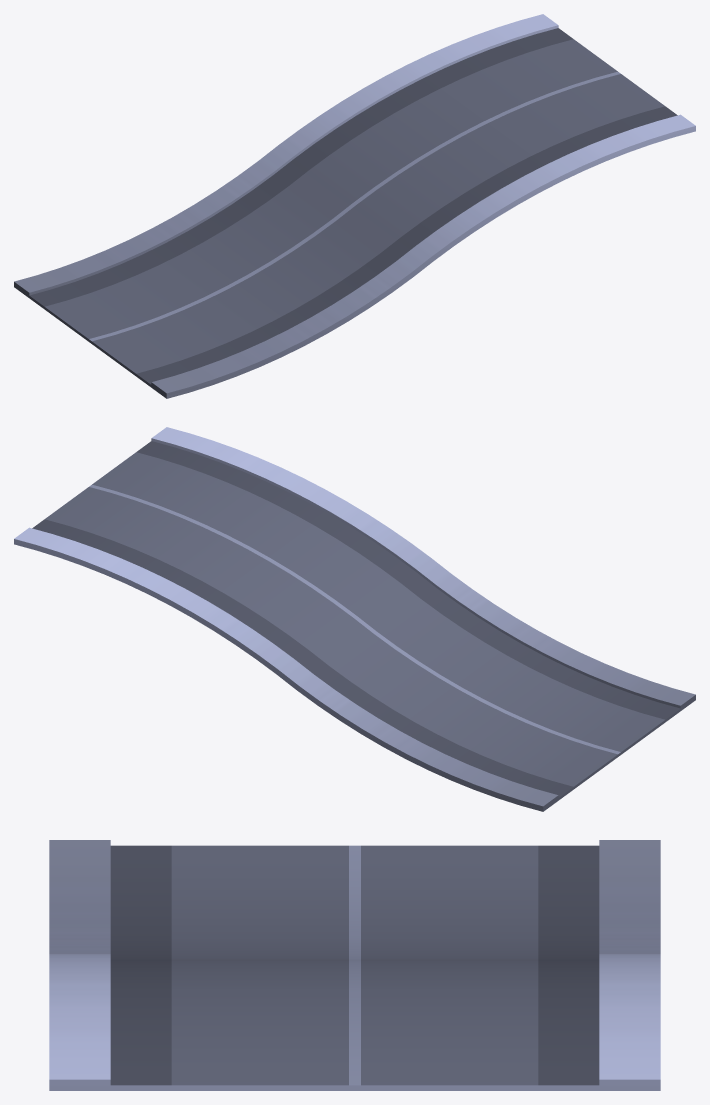
Rendered from road-slant-flat-curve.fbx.
The picture shows the model from 3 angles, top to bottom: view 1: azimuth 30°, elevation 25°; view 2: azimuth 150°, elevation 25°; view 3: azimuth 270°, elevation 25°; orthographic projection. The views are drawn at different scales.
Visible parts, largest first — view 1: road-slant-flat-curve; view 2: road-slant-flat-curve; view 3: road-slant-flat-curve.
Part boxes in pixels (x1=…): road-slant-flat-curve: x1=14, y1=14, x2=695, y2=398; road-slant-flat-curve: x1=14, y1=427, x2=695, y2=811; road-slant-flat-curve: x1=49, y1=840, x2=660, y2=1090.
Size of the model in its own units: 200 by 52 by 100.
